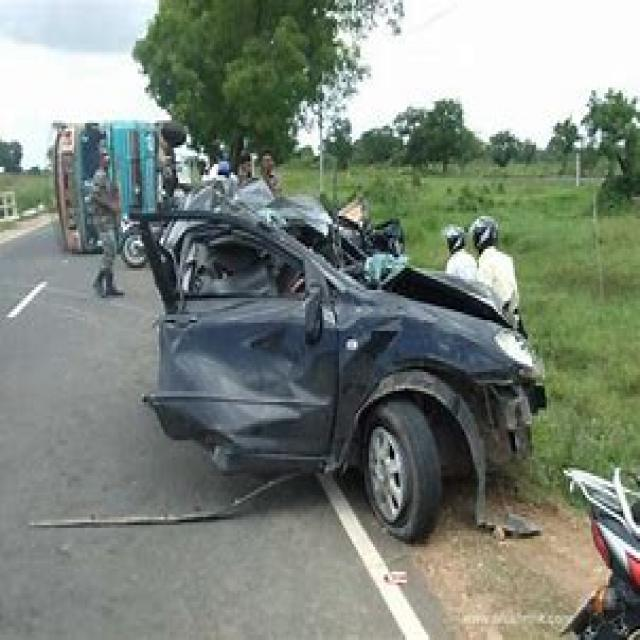Accident: (120, 130, 579, 556)
